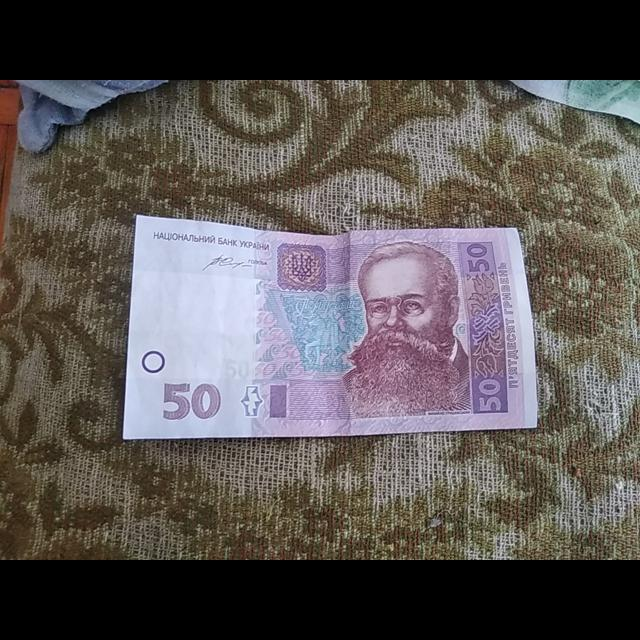50uah: (132, 228, 518, 432)
